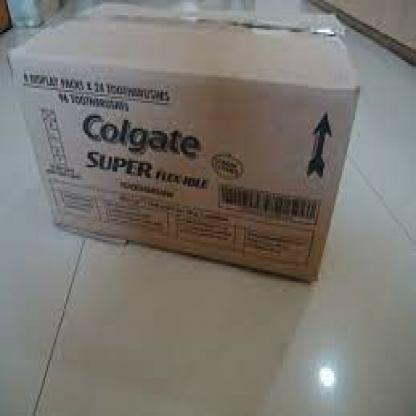package: (5, 3, 361, 284)
